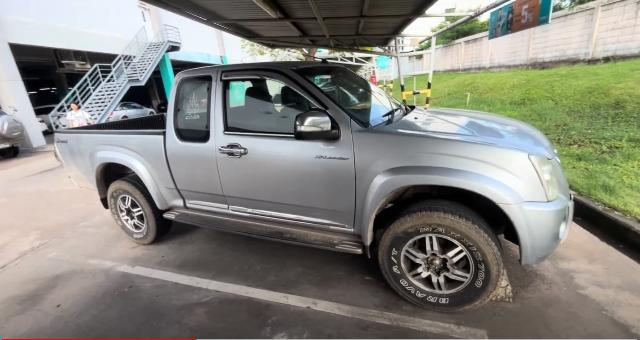pickup-truck: (49, 64, 574, 314)
